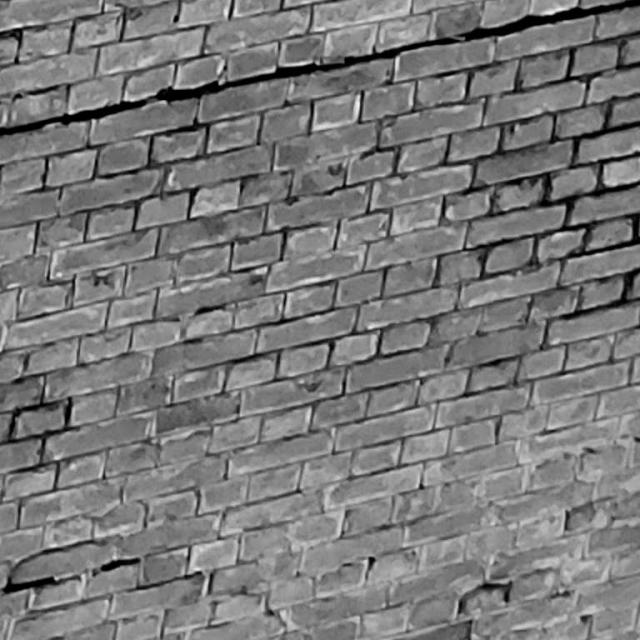crack: (1, 1, 640, 134), (4, 558, 140, 592)
